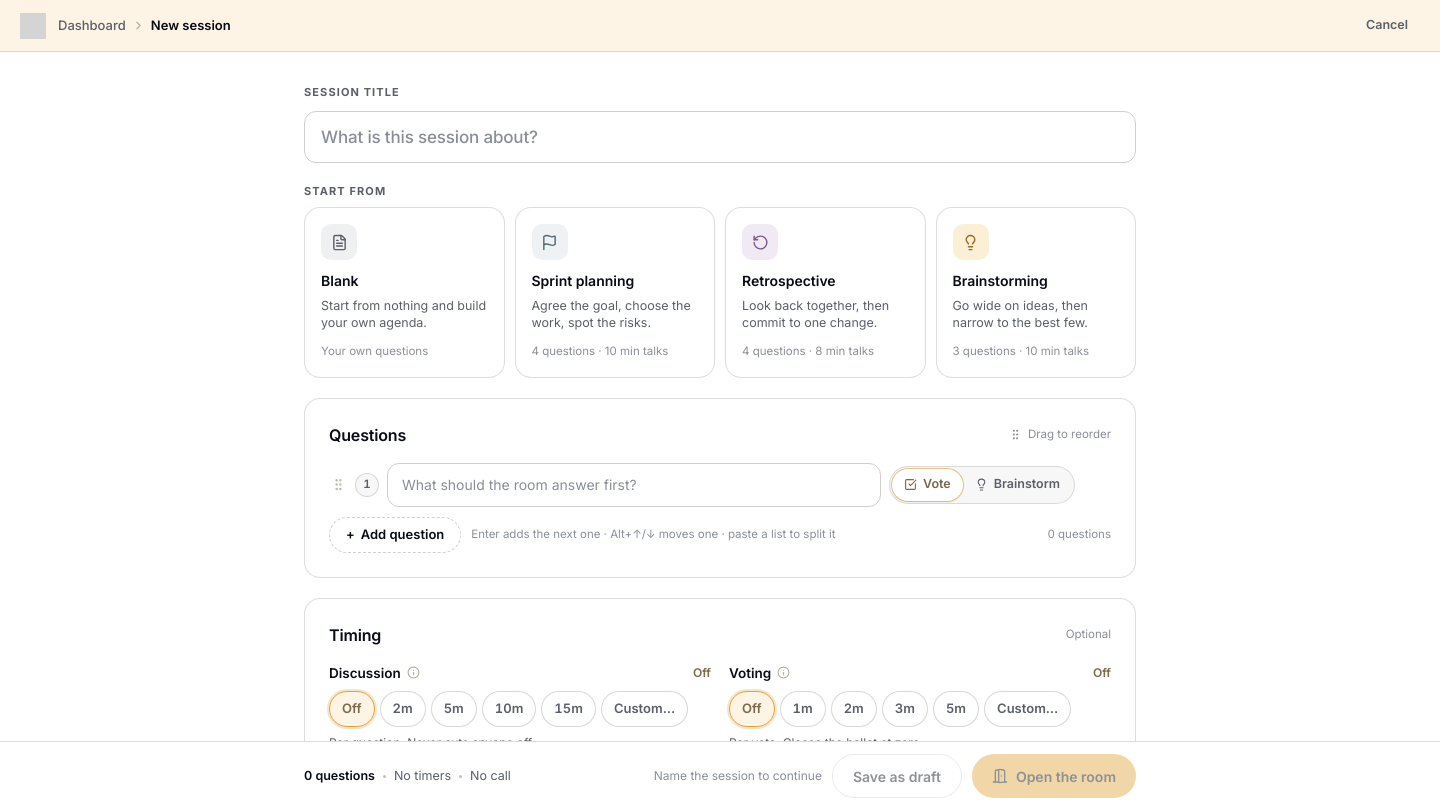
it: CreateSessionPage › Cancel opens the same discard dialog
Type "What ships first?" into the field named "Question 1". click: [634, 485]
box: [387,463,881,507]
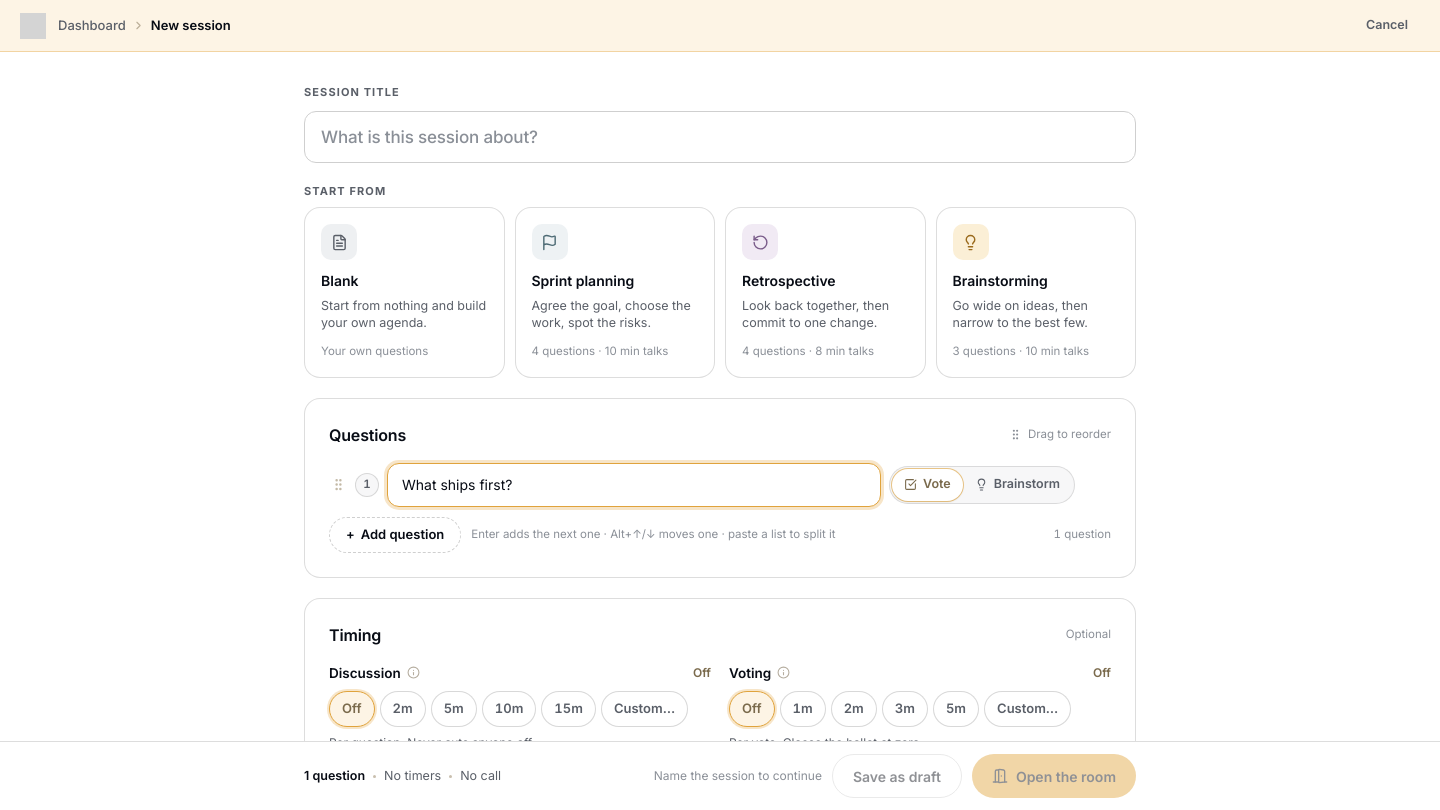
Click the button "Cancel". click: [1387, 26]
box: [1354,10,1420,42]
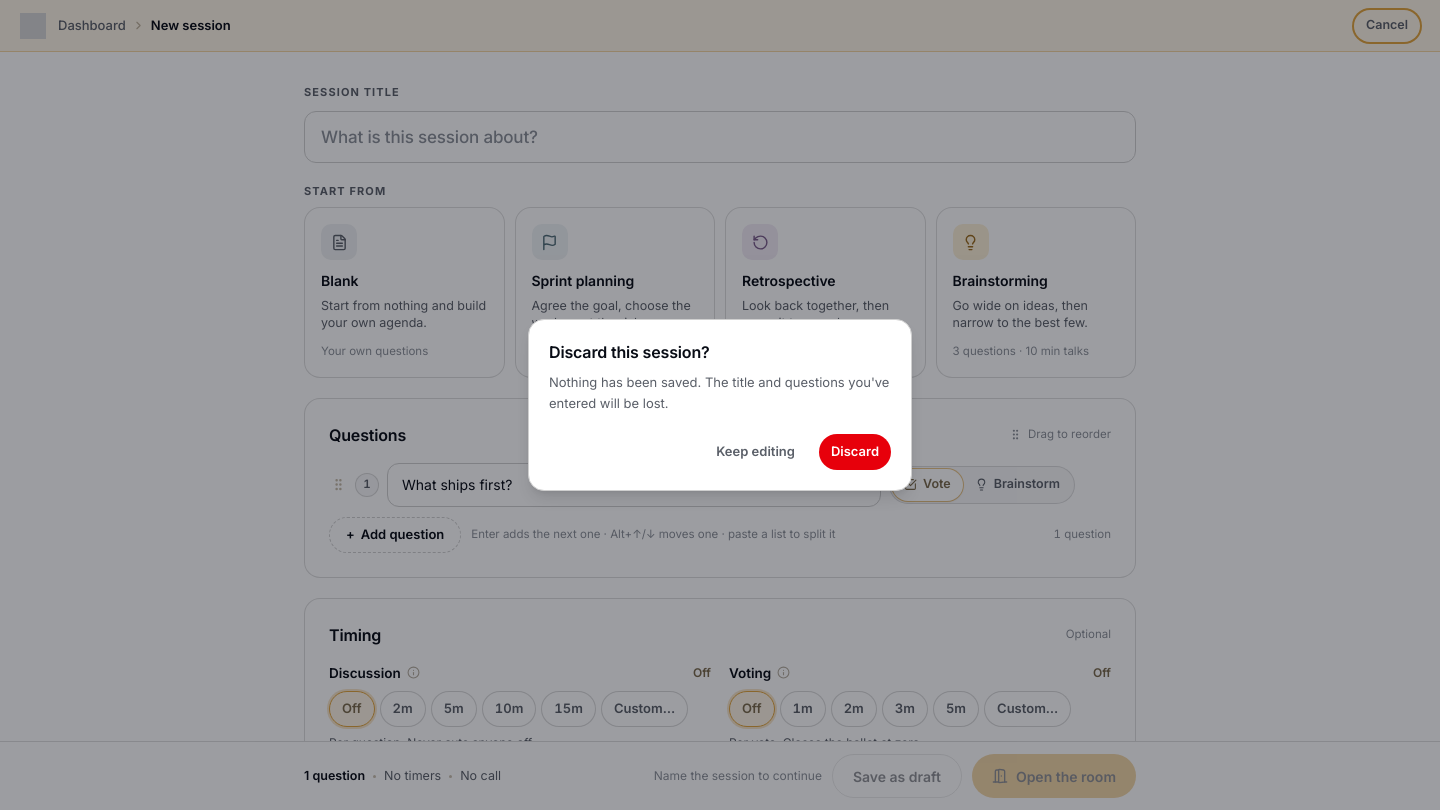
Expected: the dialog "Discard this session?" is shown, [528,319,912,491]
